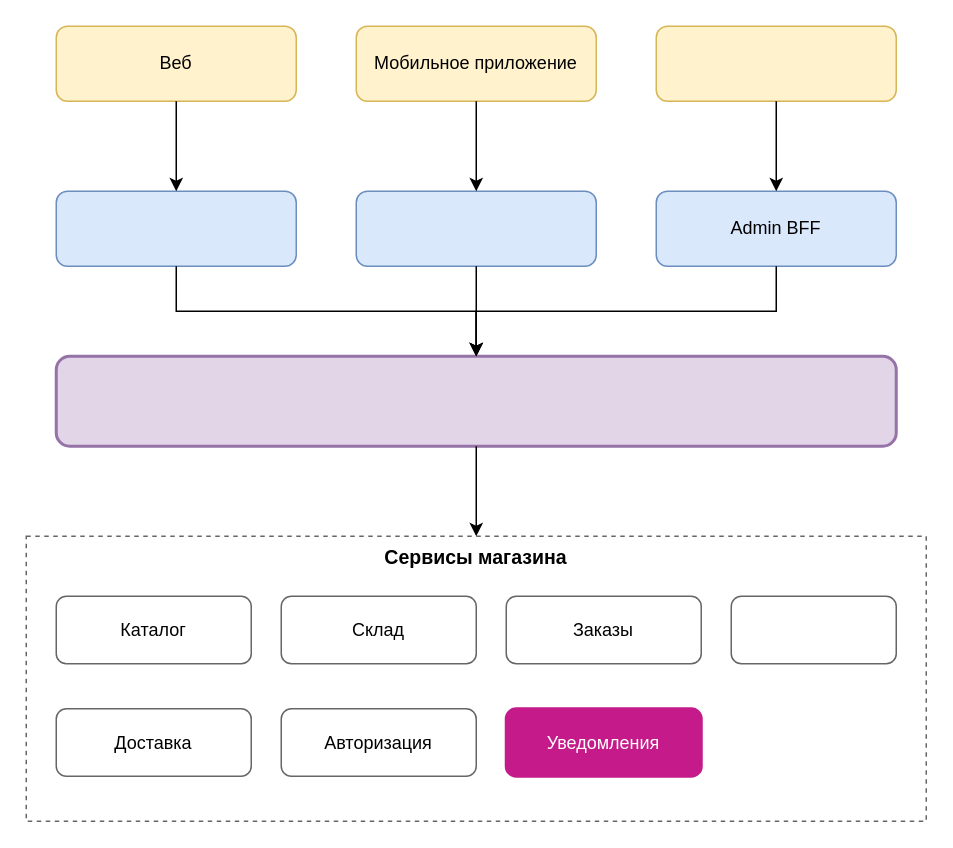
This 953x848 diagram has some shape labels left out. Here are the shapes that lost their labels. From the top down, the centre of each, then its label:
At pixel 775 63: "Админка".
At pixel 175 228: "Web BFF".
At pixel 475 228: "Mobile BFF".
At pixel 475 400: "Шлюз: общий уровень маршрутизация · TLS · токен · лимиты".
At pixel 813 629: "Оплата".
